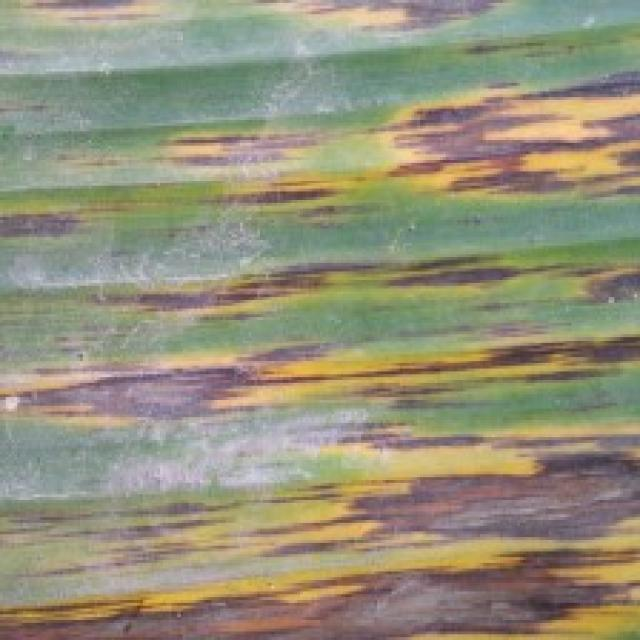Early_leaf_spot: (0, 423, 640, 631), (0, 334, 640, 423), (371, 60, 640, 211), (147, 108, 350, 236), (45, 256, 352, 329), (361, 228, 568, 302), (217, 0, 520, 49), (0, 170, 100, 264), (8, 0, 178, 53), (550, 250, 640, 310)
